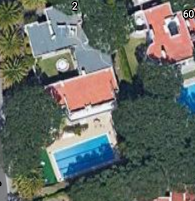pool: (55, 149, 124, 166)
